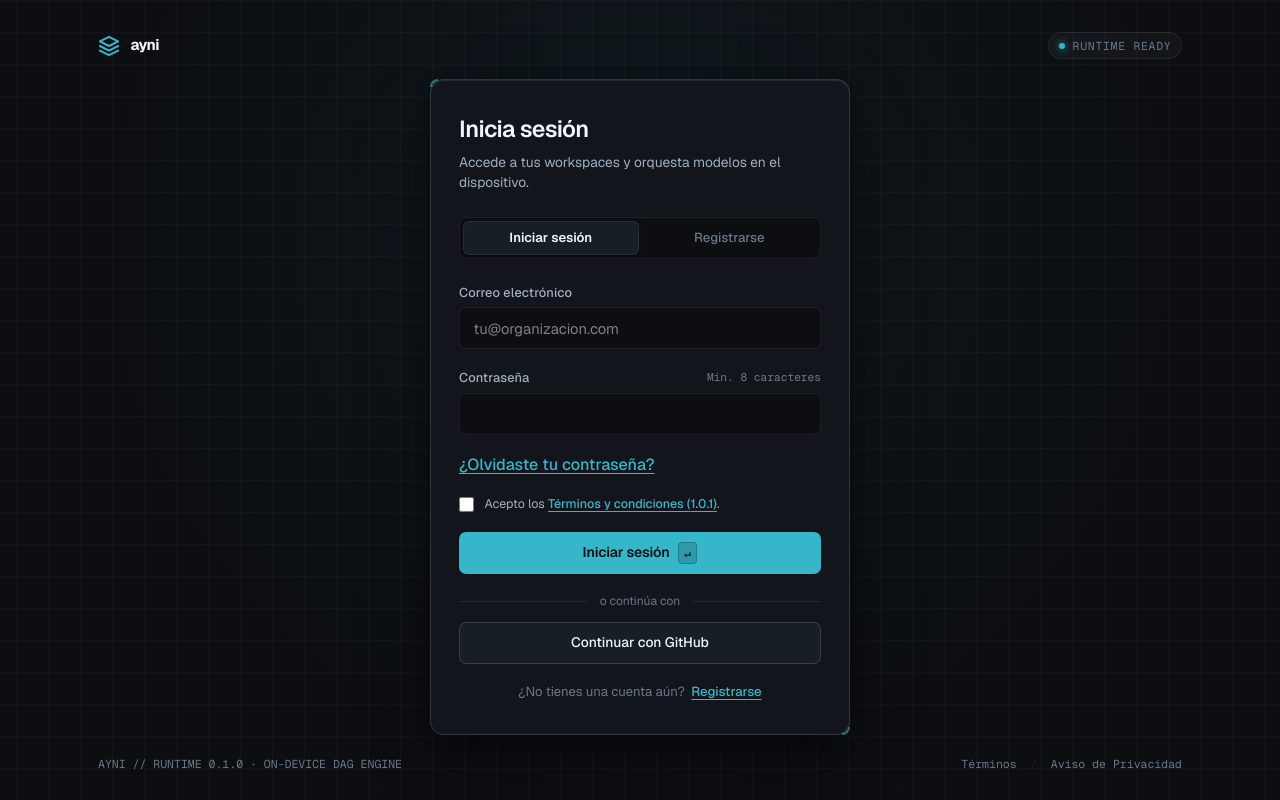
Test: AuthDiptych › does not expose provider error details
Click the checkbox labelled "Acepto los Términos y condiciones (1.0.1) ." at (466,505), box x1=459 y1=497 x2=474 y2=512
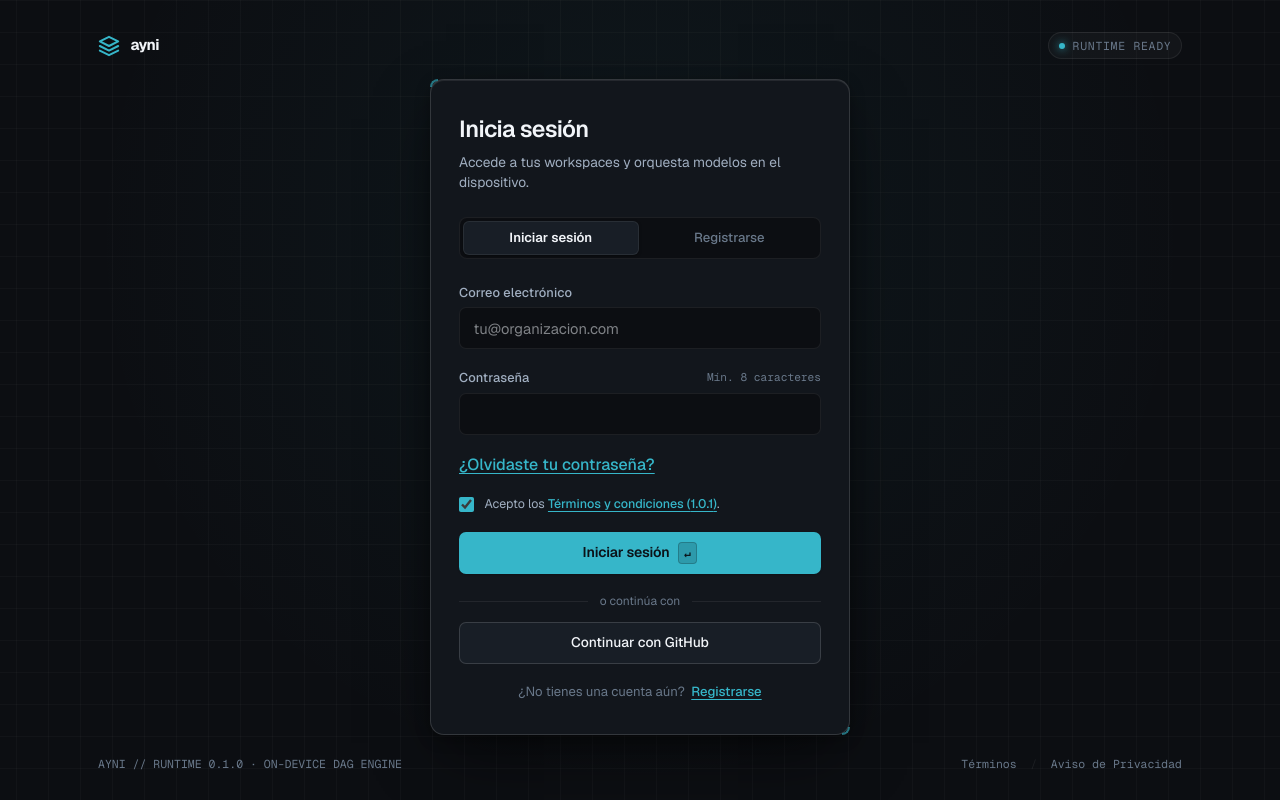
Click the button "Continuar con GitHub" at (640,642), box x1=459 y1=622 x2=821 y2=664
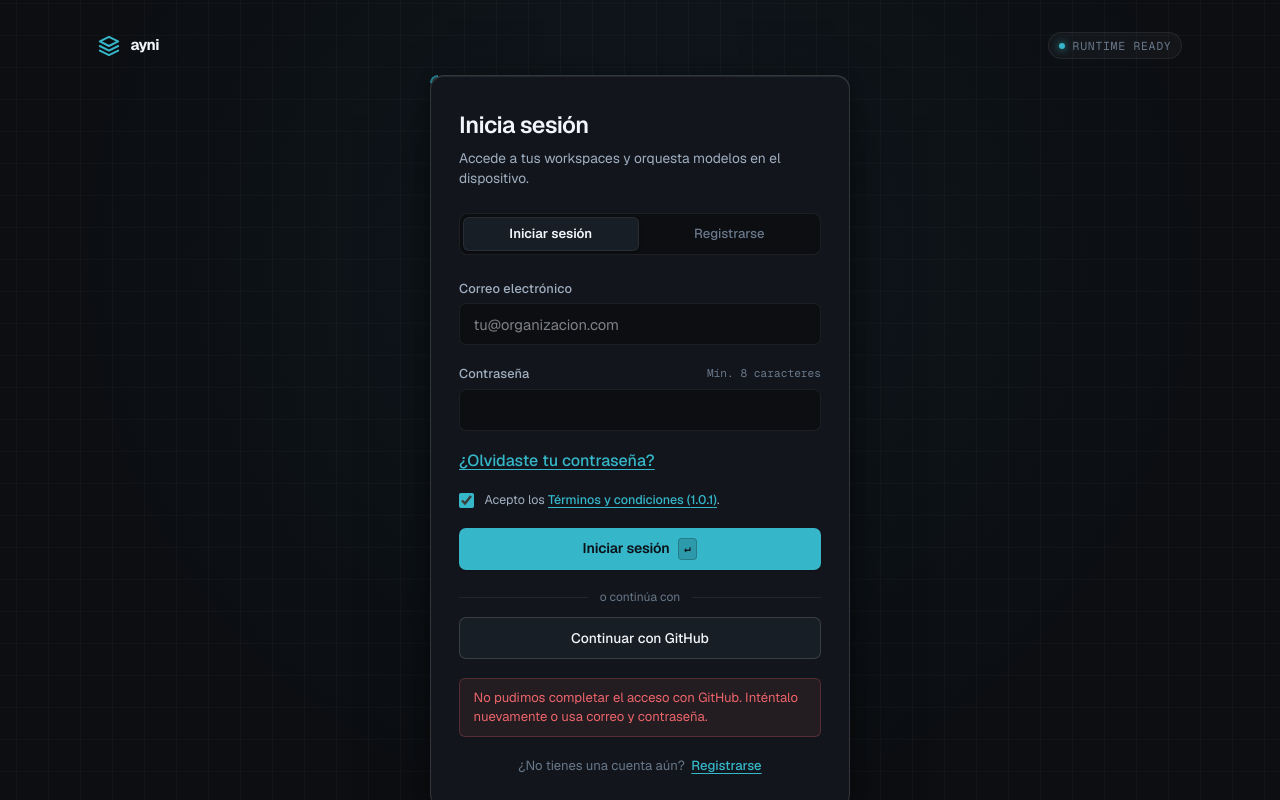
Now the 2nd message shows "No pudimos completar el acceso con GitHub. Inténtalo nuevamente o usa correo y contraseña.", box x1=474 y1=689 x2=798 y2=724
